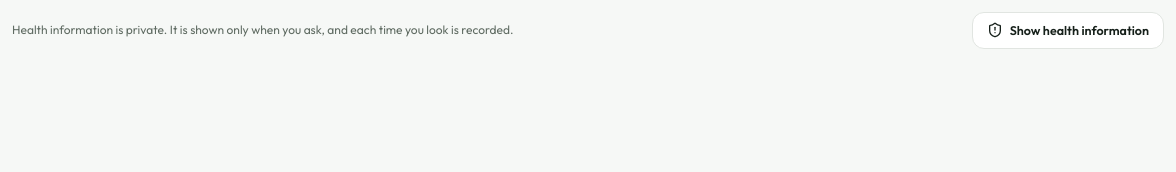
Test: HealthReview (HR) › loads nothing until HR asks, then shows the records and opens documents
Later steps or results of the test are not shown.
Check: the text "each time you look is recorded" is shown, box [12,22,514,37]
Click the button "Show health information" at (1068, 30), box [972,12,1164,49]
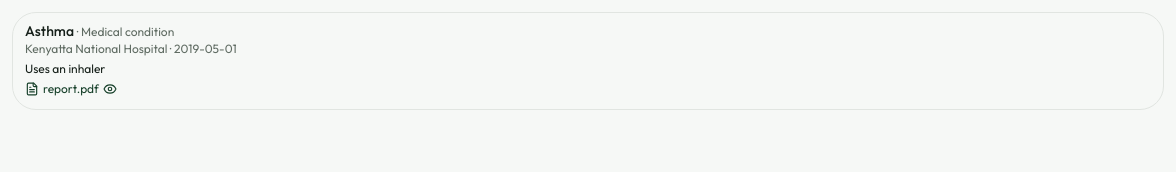
Check: the text "Asthma" is shown, box [25,22,74,40]
